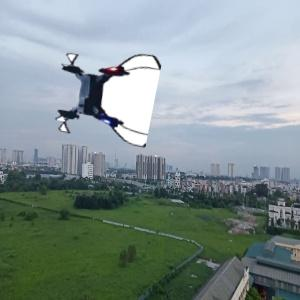drone: (54, 46, 156, 148)
